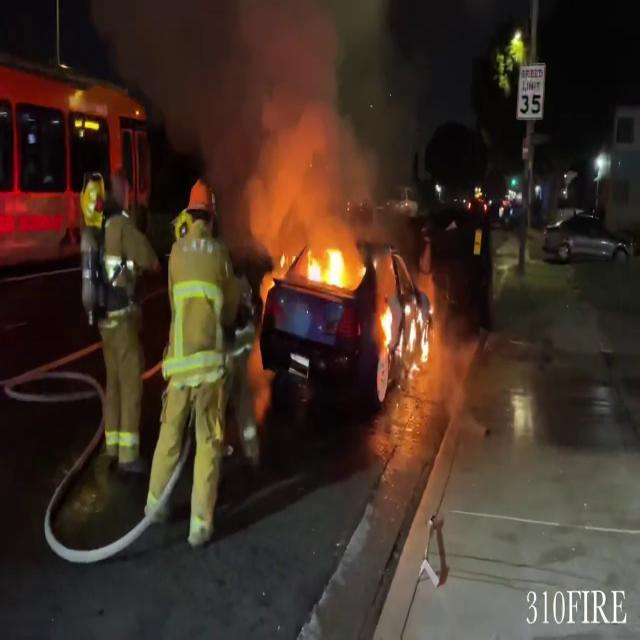Fire: (300, 238, 354, 296), (404, 300, 432, 370), (378, 298, 394, 350)
Smoke: (114, 0, 382, 231)
